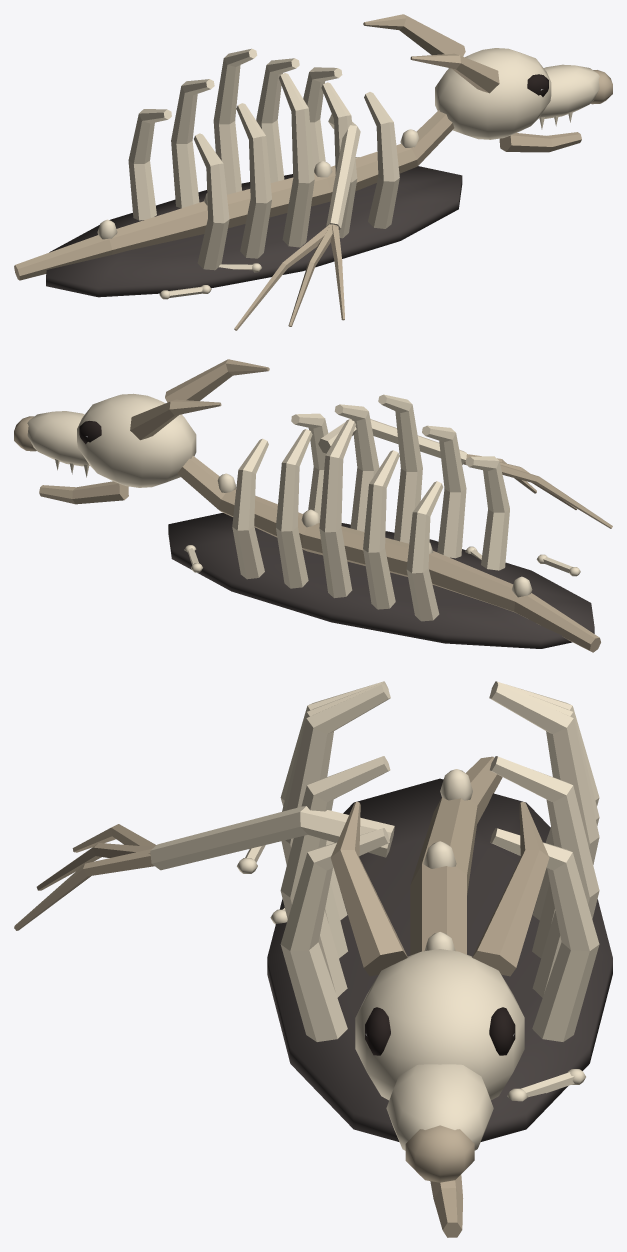
The model's file is DragonSkeleton.fbx.
The picture shows the model from 3 angles, top to bottom: view 1: azimuth 30°, elevation 25°; view 2: azimuth 150°, elevation 25°; view 3: azimuth 270°, elevation 25°; orthographic projection. The views are drawn at different scales.
Visible parts, largest first — view 1: Frame; view 2: Frame; view 3: Frame.
Part boxes in pixels (bbox=[...]): Frame: bbox=[14, 14, 612, 330]; Frame: bbox=[14, 359, 612, 652]; Frame: bbox=[14, 681, 612, 1237].
Size of the model in its own units: 14.34 by 4.27 by 7.25.
1 material, 1 textured.
